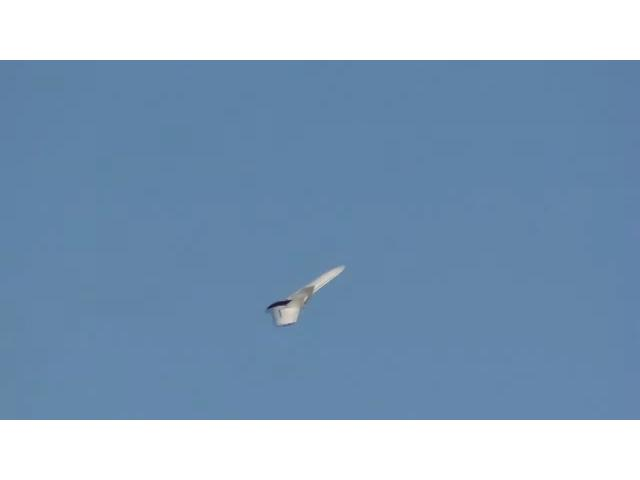Anti-Drone: (266, 266, 342, 326)
